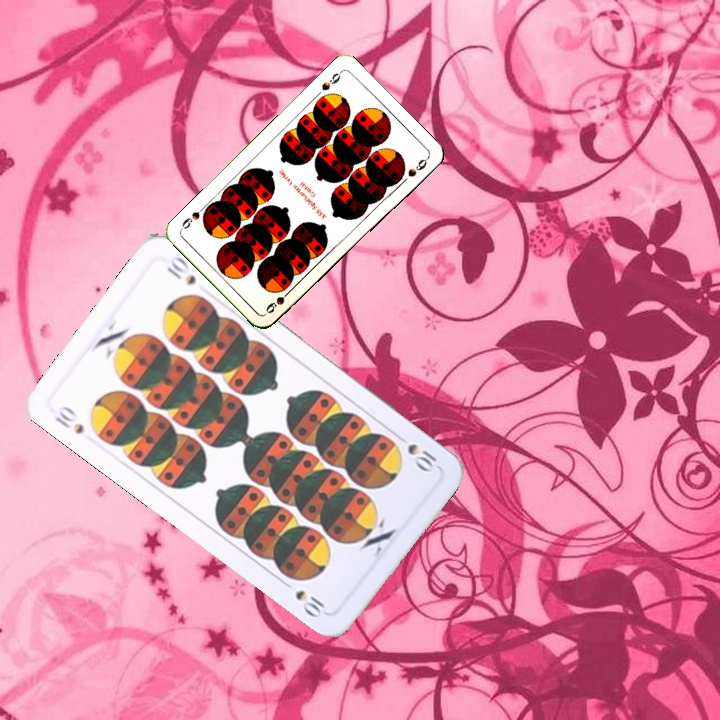S10: (403, 439, 440, 475), (51, 401, 87, 437)
S9: (262, 285, 295, 316), (318, 67, 345, 93)
